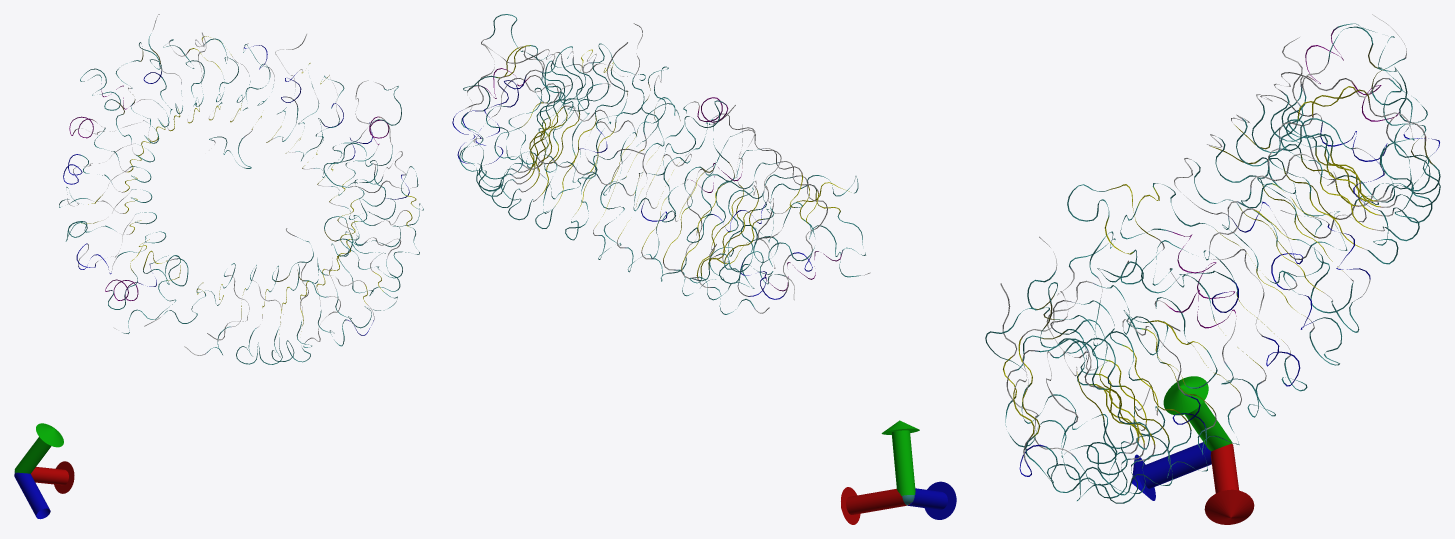
Rendered from 3wpf-2.obj.
3 views of the same model, side by side, from view 1: azimuth 30°, elevation 25°; view 2: azimuth 150°, elevation 25°; view 3: azimuth 270°, elevation 25° (orthographic). The views are drawn at different scales.
Parts seen in each view (by area): view 1: vmd_mol0_rep0, vmd_axes; view 2: vmd_mol0_rep0, vmd_axes; view 3: vmd_mol0_rep0, vmd_axes.
Part boxes in pixels (left/top/right/bottom): vmd_mol0_rep0: left=59, top=14, right=423, bottom=364; vmd_axes: left=14, top=423, right=74, bottom=519; vmd_mol0_rep0: left=452, top=14, right=870, bottom=314; vmd_axes: left=841, top=420, right=956, bottom=524; vmd_mol0_rep0: left=985, top=14, right=1440, bottom=503; vmd_axes: left=1132, top=376, right=1254, bottom=524.
Bounding box in the file's own units: 1.74 × 1.73 × 1.14.
